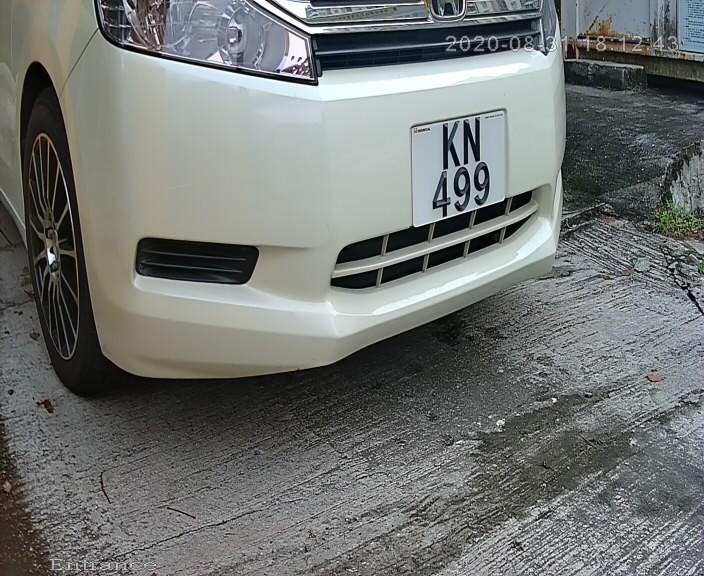License Plate: (406, 96, 513, 242)
